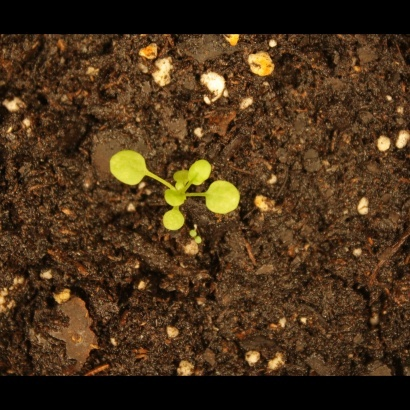leaf: (103, 142, 153, 195), (202, 178, 242, 217), (187, 156, 215, 188), (161, 206, 190, 236), (163, 186, 186, 209), (171, 164, 194, 187)
